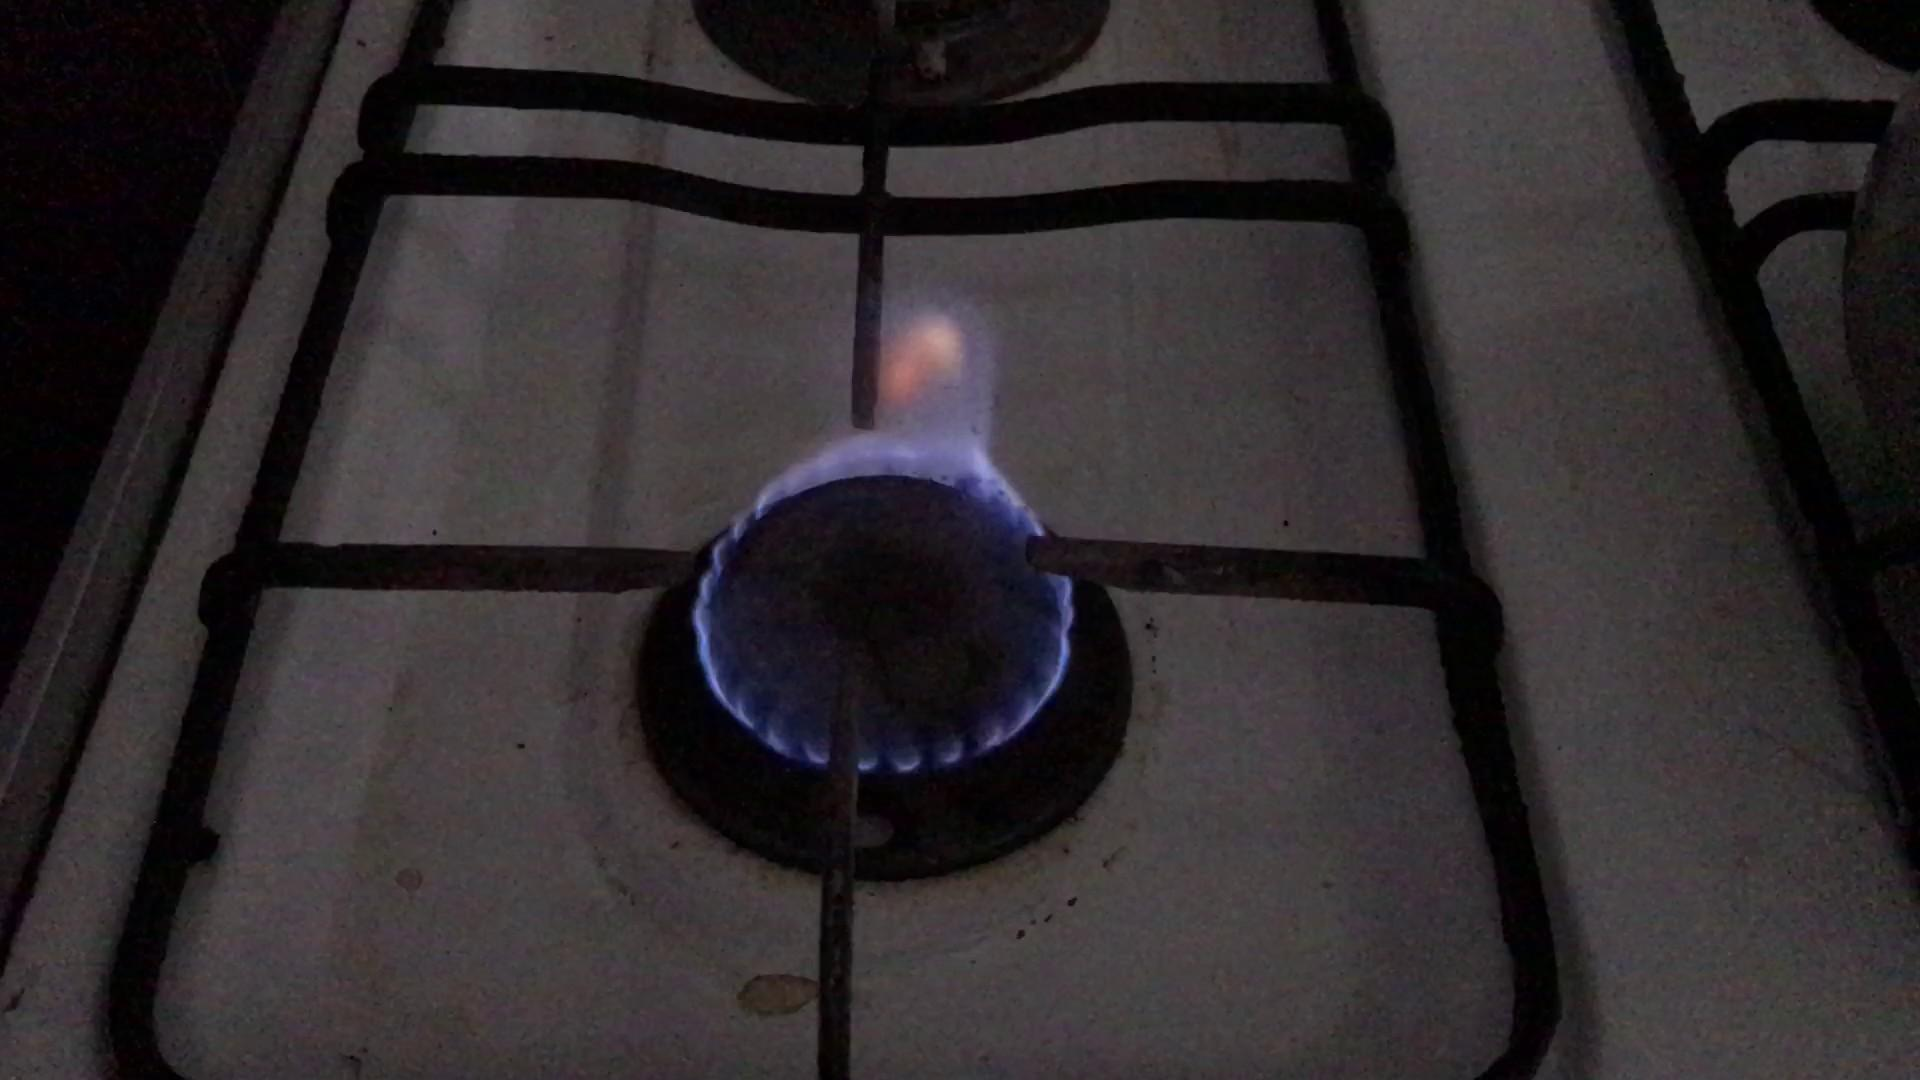fire: (716, 398, 1067, 748)
